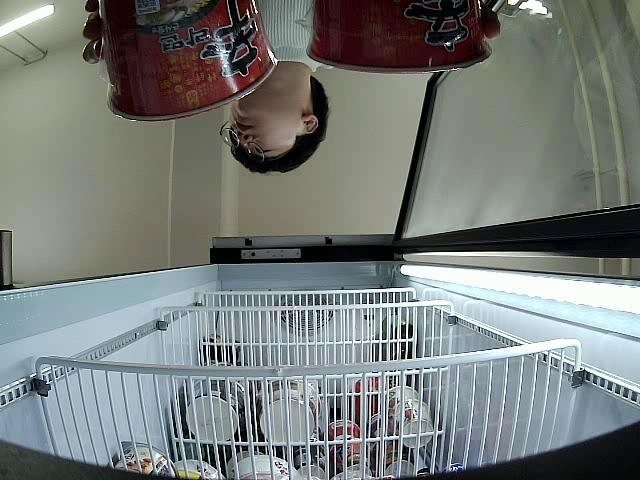01_ShinRamen_L: (94, 1, 278, 122), (310, 0, 489, 71)
